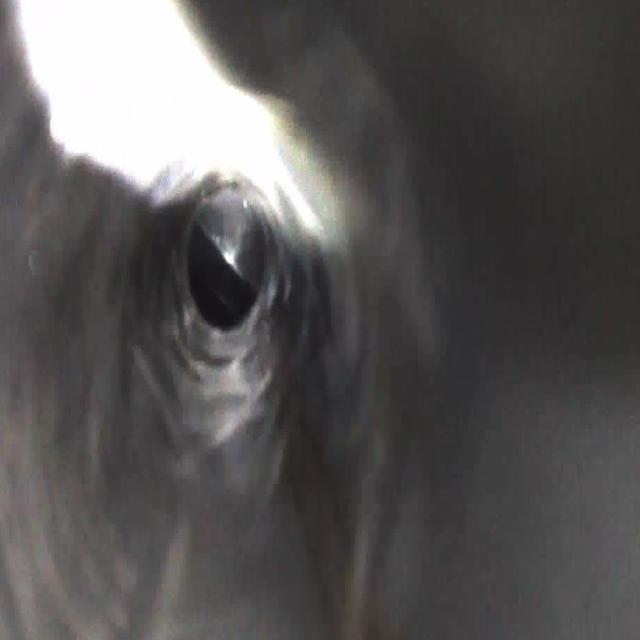crack: (184, 340, 250, 384)
